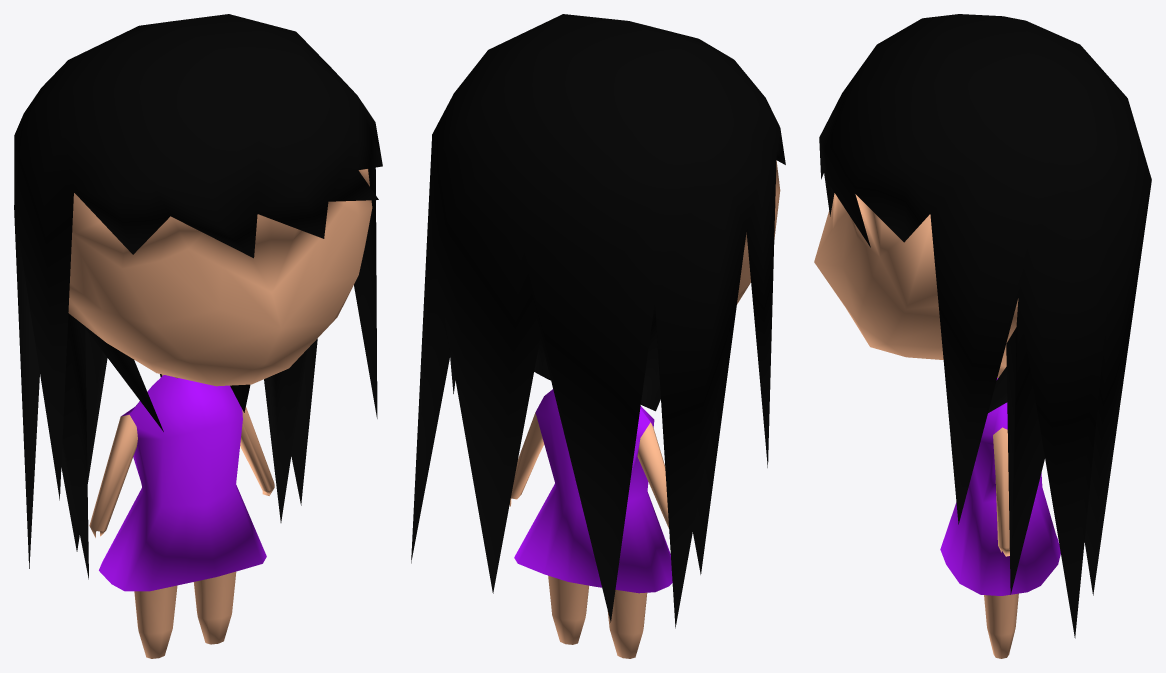
File: student-2954acec.glb
The picture shows the model from 3 angles, left to right: view 1: azimuth 30°, elevation 25°; view 2: azimuth 150°, elevation 25°; view 3: azimuth 270°, elevation 25°; orthographic projection. The views are drawn at different scales.
Parts seen in each view (by area): view 1: student; view 2: student; view 3: student.
Part boxes in pixels (<box>): student: <box>14,14,382,658</box>; student: <box>411,14,785,658</box>; student: <box>814,14,1151,658</box>.
Size of the model in its own units: 0.8825 by 1.58 by 0.8002.
Materials: 1 (1 with a texture image).
